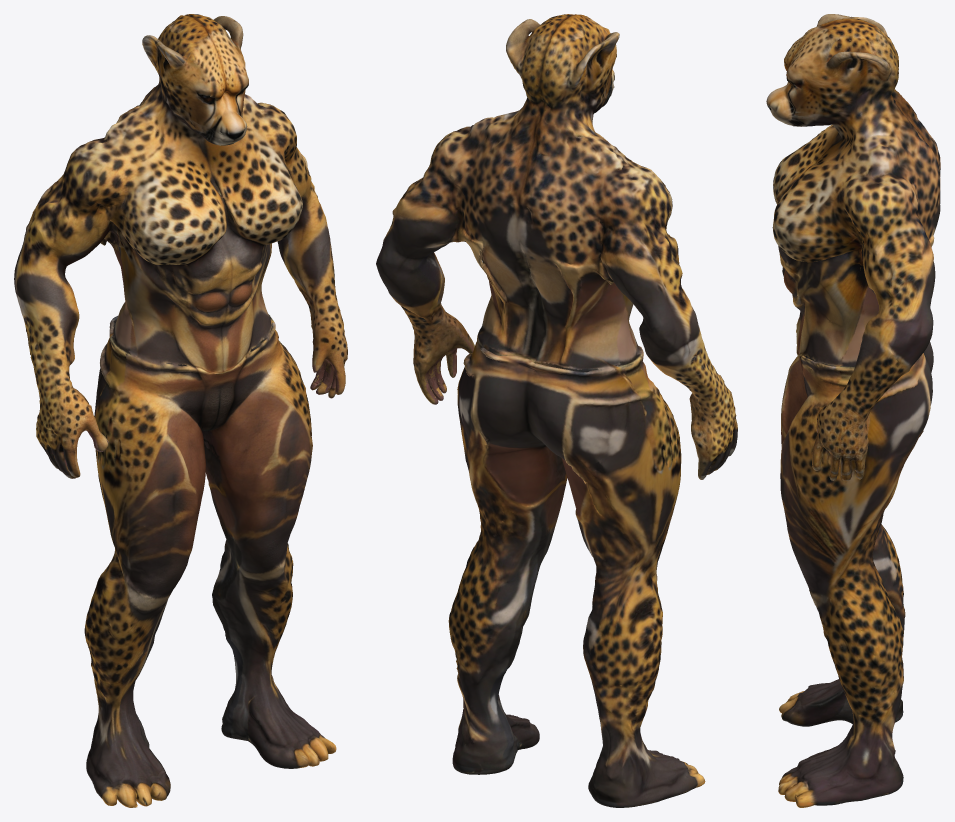
The model's file is velkara.glb.
The picture shows the model from 3 angles, left to right: view 1: azimuth 30°, elevation 25°; view 2: azimuth 150°, elevation 25°; view 3: azimuth 270°, elevation 25°; orthographic projection. The views are drawn at different scales.
Visible parts, largest first — view 1: Mesh_0.072_Material_0.073_0 (×2); view 2: Mesh_0.072_Material_0.073_0 (×2); view 3: Mesh_0.072_Material_0.073_0 (×2).
Part boxes in pixels (x1,y1,x2,y2): Mesh_0.072_Material_0.073_0 (×2): [14, 14, 347, 807]; Mesh_0.072_Material_0.073_0 (×2): [376, 14, 737, 807]; Mesh_0.072_Material_0.073_0 (×2): [766, 14, 940, 807].
Bounding box in the file's own units: 0.8661 × 2 × 0.4305.
1 material, 1 textured.
